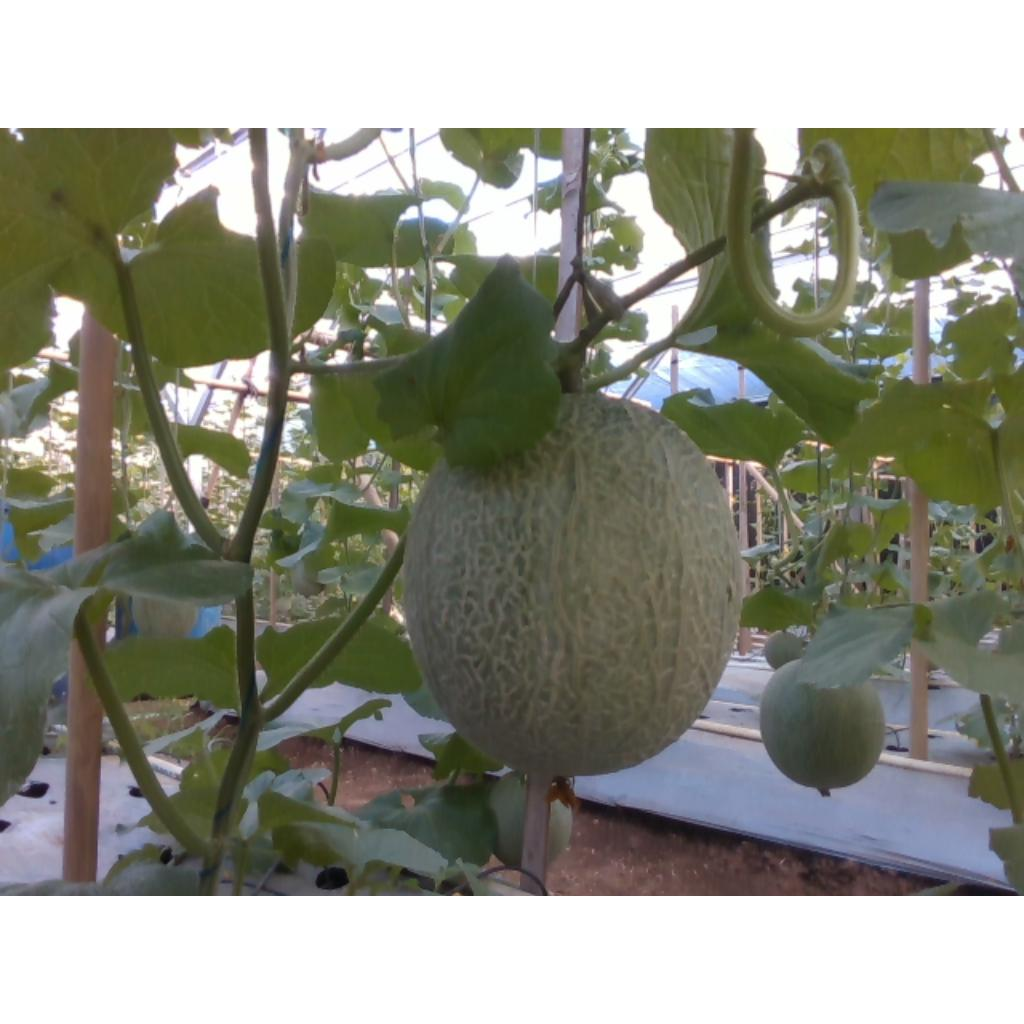melon: (406, 394, 742, 777)
